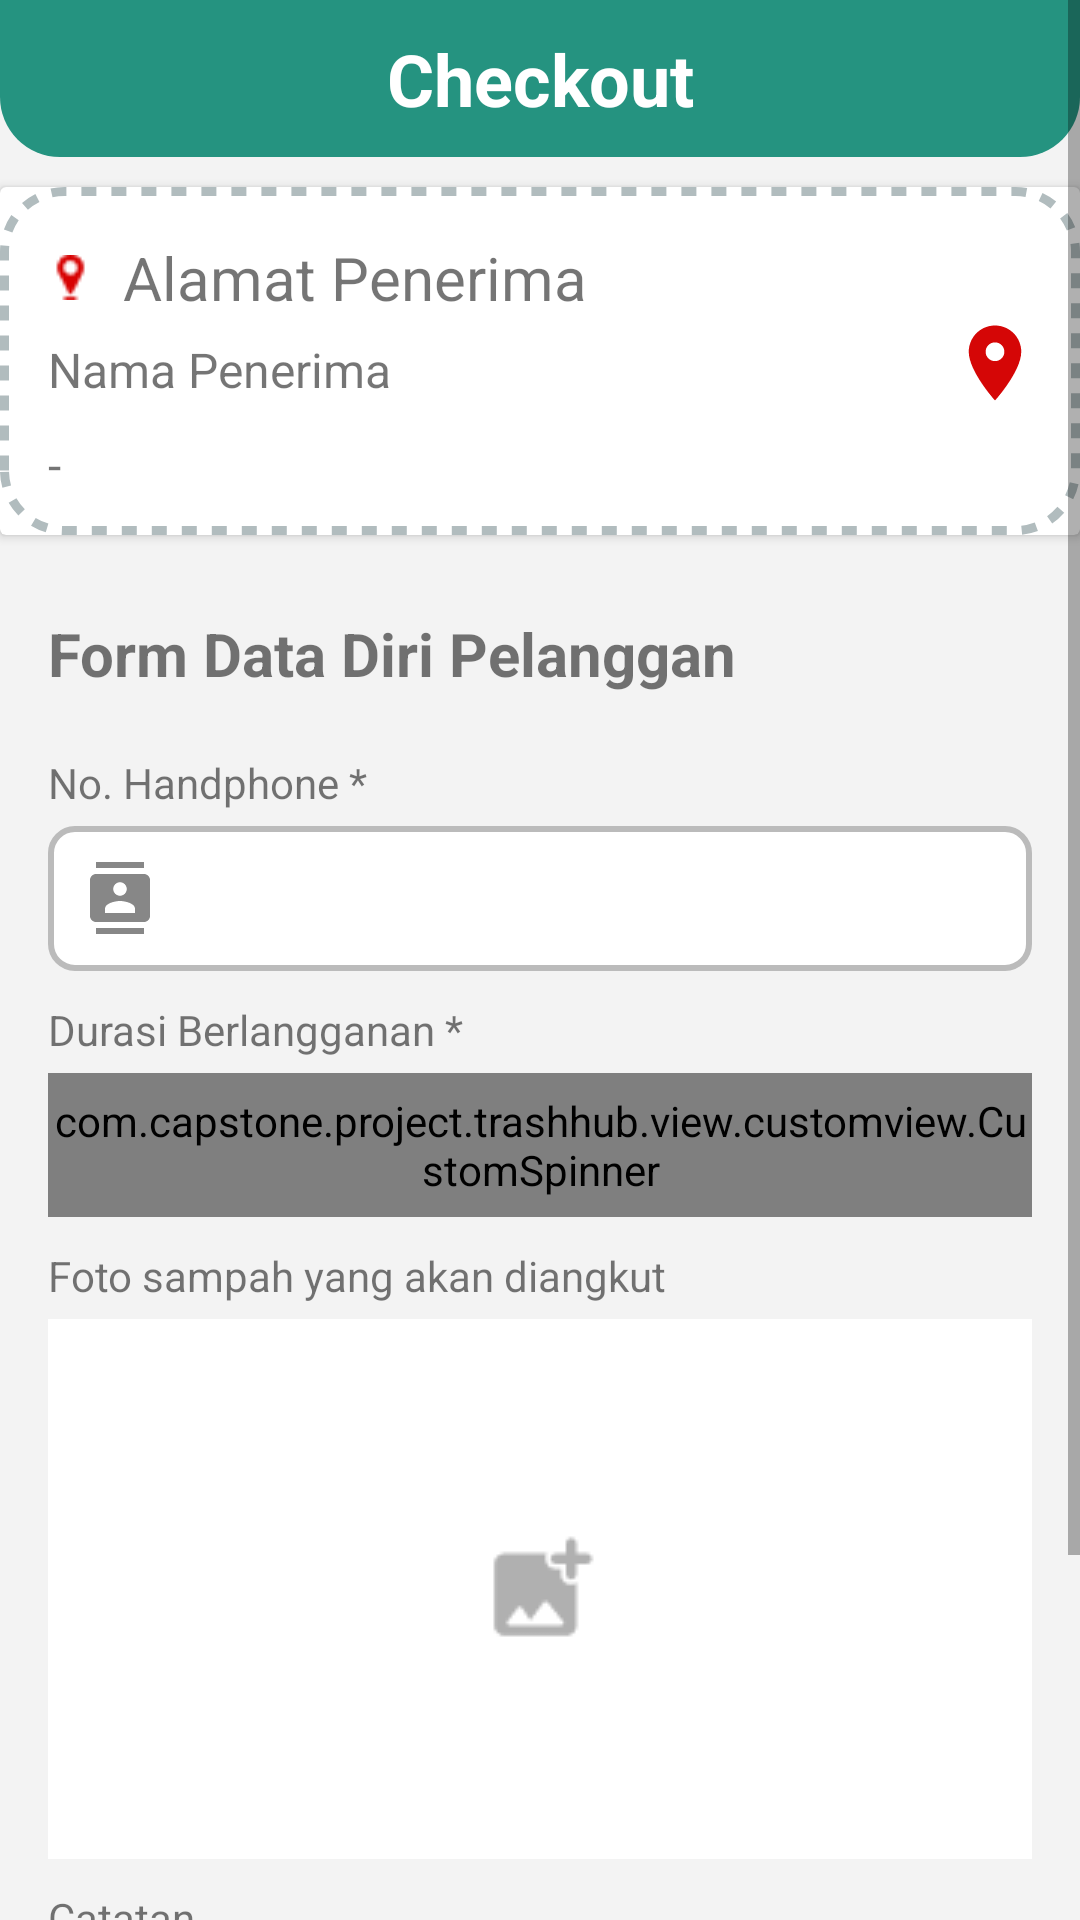

Point at icon controls on the screen. Image size 1080*1920, points as point (x, y).
location: point (70, 277)
location on: point (995, 362)
